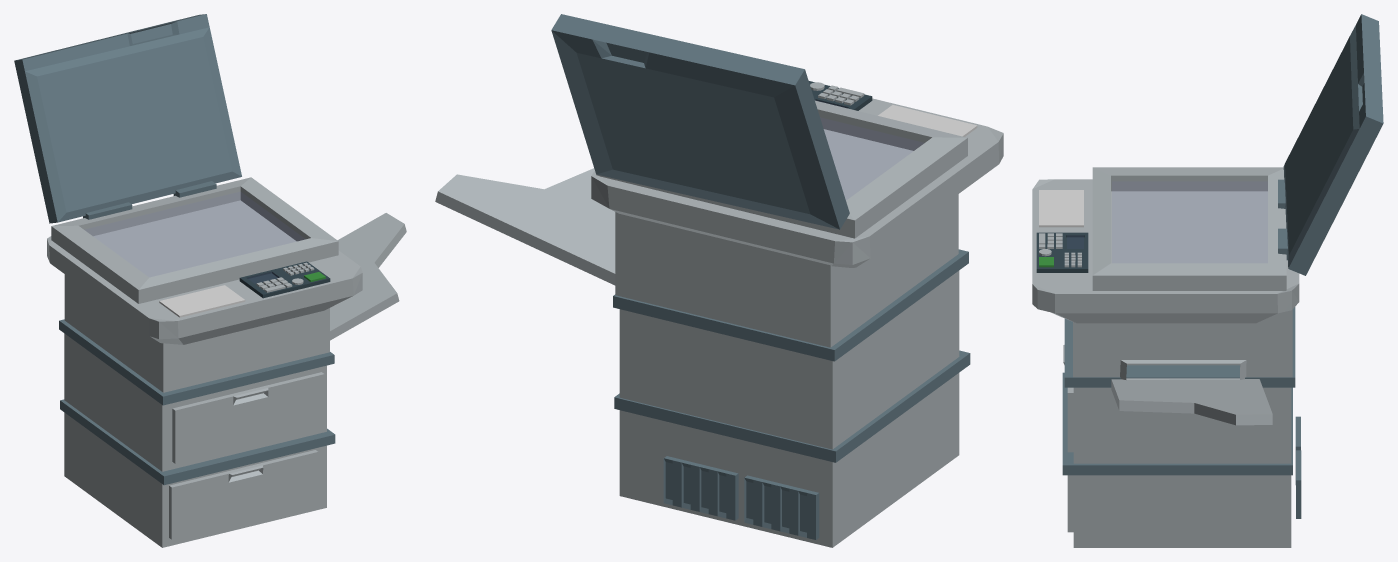
The model's file is asset.gltf.
The picture shows the model from 3 angles, left to right: view 1: azimuth 30°, elevation 25°; view 2: azimuth 150°, elevation 25°; view 3: azimuth 270°, elevation 25°; orthographic projection. The views are drawn at different scales.
Visible parts, largest first — view 1: node_MeshObject-1923445056-PolyPaper16_0; view 2: node_MeshObject-1923445056-PolyPaper16_0; view 3: node_MeshObject-1923445056-PolyPaper16_0.
Part boxes in pixels (bbox=[...]): node_MeshObject-1923445056-PolyPaper16_0: bbox=[14, 14, 406, 547]; node_MeshObject-1923445056-PolyPaper16_0: bbox=[435, 14, 1003, 547]; node_MeshObject-1923445056-PolyPaper16_0: bbox=[1032, 14, 1383, 547].
Bounding box in the file's own units: 0.3107 × 0.3462 × 0.2509.
